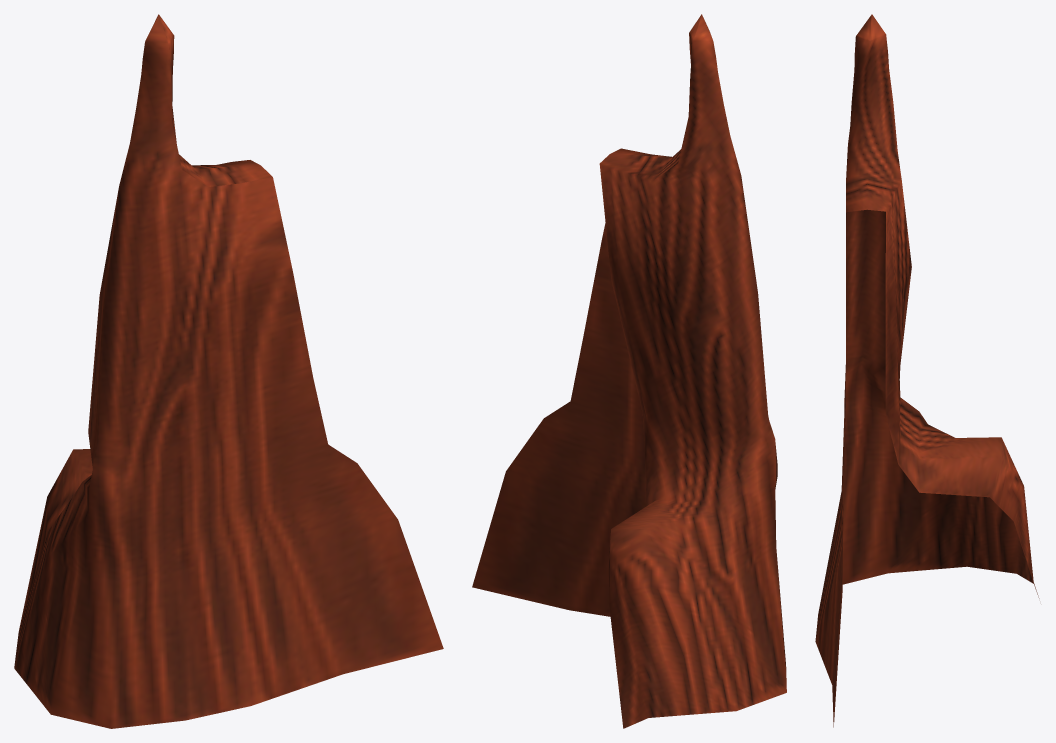
File: Throne01_Maincity_002.FBX
3 views of the same model, side by side, from view 1: azimuth 30°, elevation 25°; view 2: azimuth 150°, elevation 25°; view 3: azimuth 270°, elevation 25° (orthographic). The views are drawn at different scales.
Visible parts, largest first — view 1: Throne01_Maincity_002; view 2: Throne01_Maincity_002; view 3: Throne01_Maincity_002.
Boxes of the visible parts, <box> form: Throne01_Maincity_002: <box>14,14,443,728</box>; Throne01_Maincity_002: <box>472,14,786,728</box>; Throne01_Maincity_002: <box>815,14,1039,727</box>.
Size of the model in its own units: 456 by 822 by 280.
Materials: 1 (1 with a texture image).
